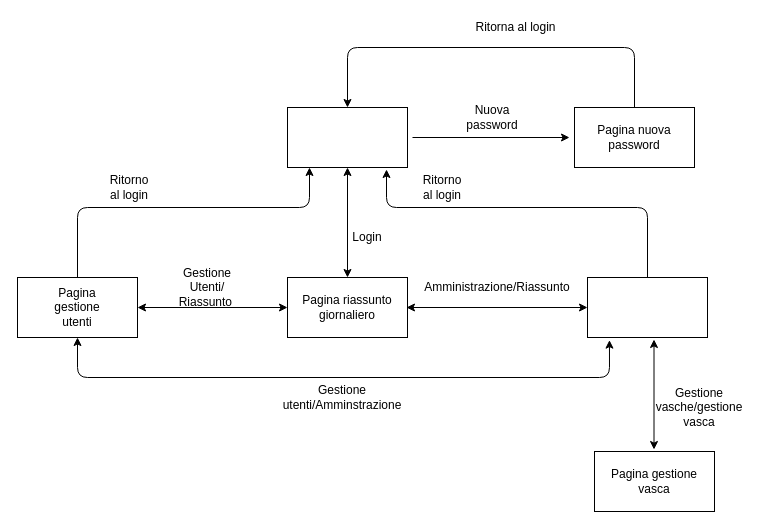
This 760x529 diagram has some shape labels left out. Each missing label, with the centre of its shape:
Pagina gestione vasche: point 647,307
Pagina Login: point 347,137
